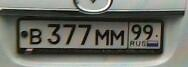license-plateSW: (18, 18, 162, 52)
